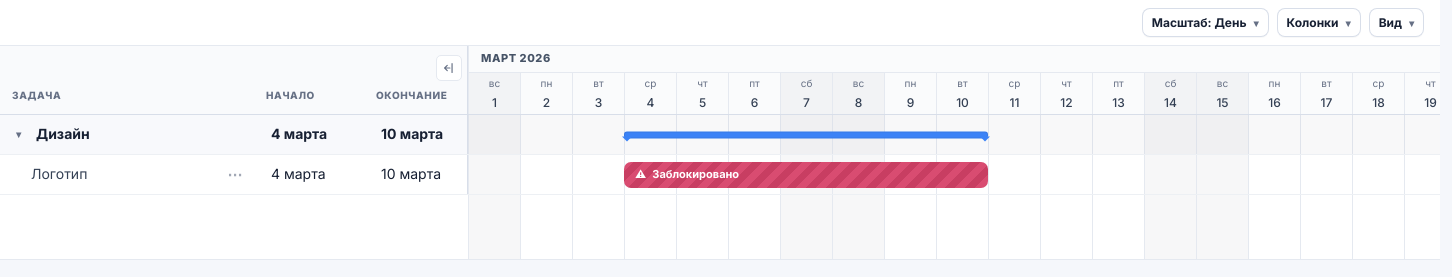
Scenario: карточка наведения на полоску › предупреждает знаком о заблокированной задаче
Hover over the button with aria-label "Логотип": (696, 174) [624,162,988,188]
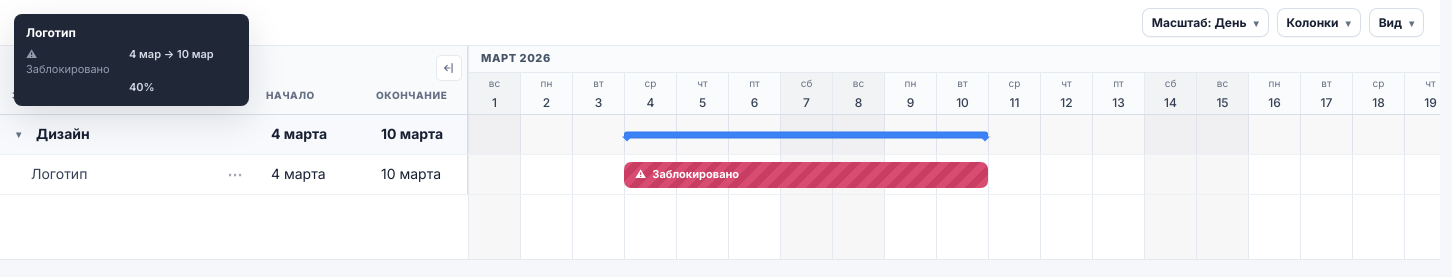
Expected: the element with test id "bar-tip" shows "⚠ Заблокировано", [26,47,110,76]
